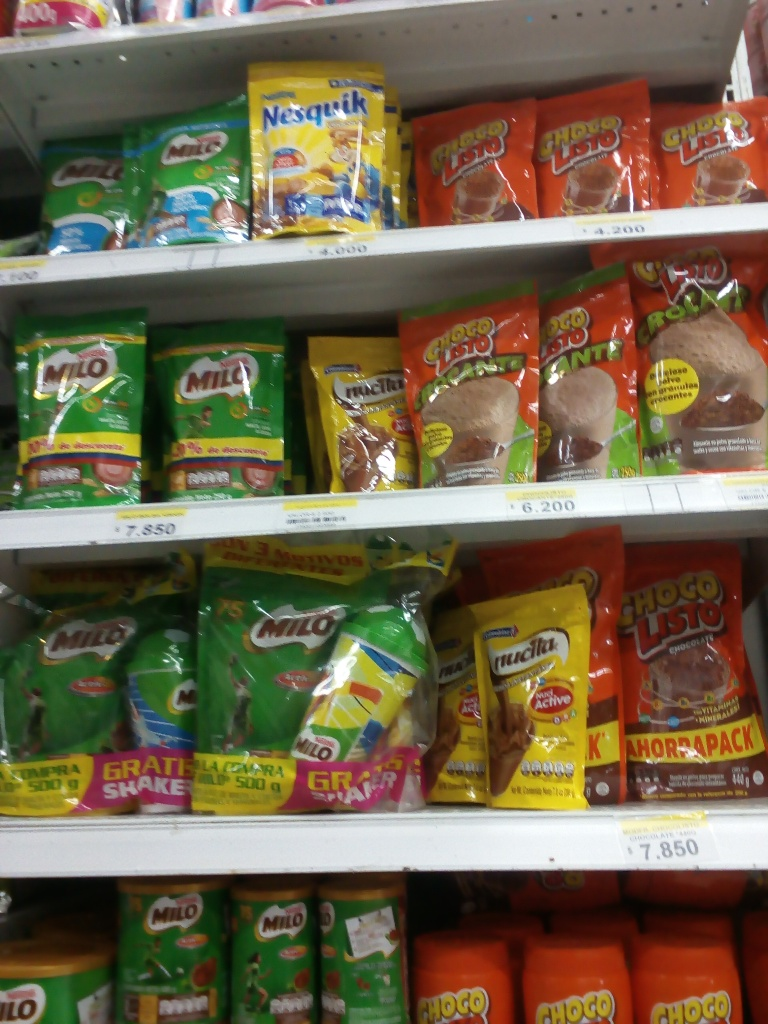COL0170102DYP25000: (516, 261, 645, 487)
COL0170102DYP50000: (610, 231, 768, 477)
COL0170103DYP20000: (400, 100, 537, 227)
COL0170103DYP44000: (609, 537, 768, 803)
COL0170203DYP25000: (146, 315, 282, 500)
COL0170203DYP50000: (184, 563, 317, 760)
COL0170203LAT20000: (317, 877, 409, 1023)
COL0170203LAT40000: (113, 877, 227, 1022)
COL0170205DYP20000: (119, 89, 260, 247)
COL0170303DYP20000: (242, 62, 384, 234)
